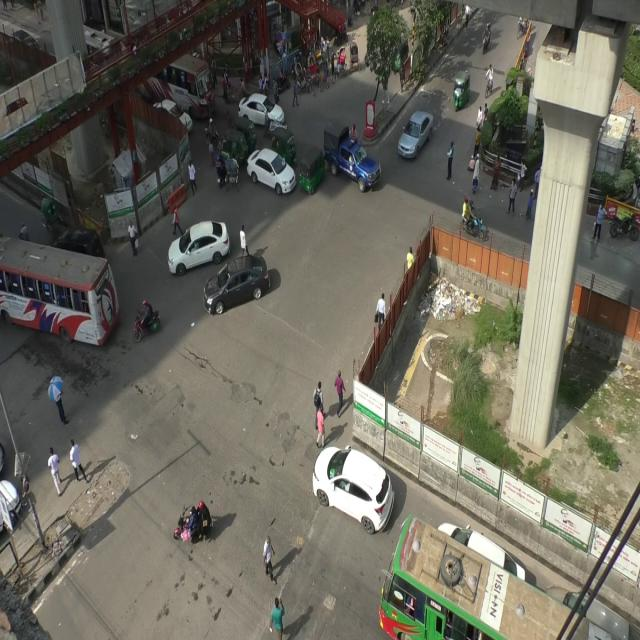cng: (294, 140, 328, 198), (218, 127, 249, 167), (231, 117, 259, 150), (451, 68, 473, 109), (273, 122, 296, 159)
rikshaw: (292, 60, 317, 99), (223, 151, 242, 190), (307, 52, 323, 98), (331, 43, 347, 84), (314, 38, 327, 76), (349, 39, 361, 75)
